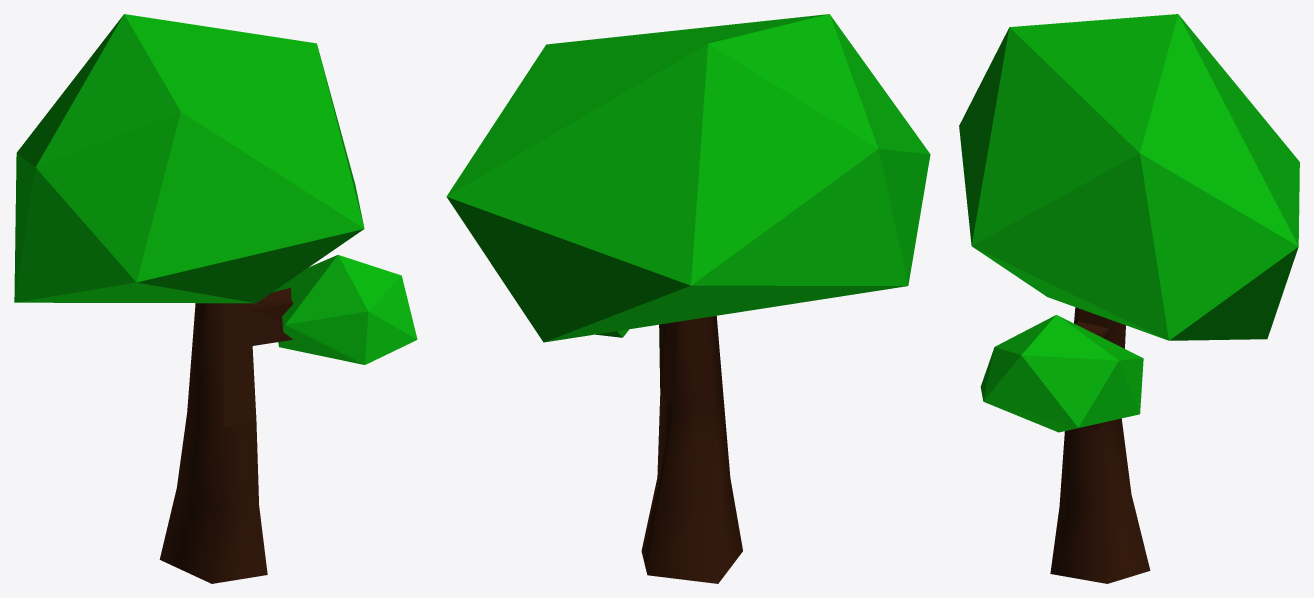
File: Tree 7.FBX
The picture shows the model from 3 angles, left to right: view 1: azimuth 30°, elevation 25°; view 2: azimuth 150°, elevation 25°; view 3: azimuth 270°, elevation 25°; orthographic projection. The views are drawn at different scales.
Visible parts, largest first — view 1: Tree round12, Treetrunk12, Tree round013; view 2: Tree round12, Treetrunk12; view 3: Tree round12, Tree round013, Treetrunk12.
Boxes of the visible parts, x1,y1,x2,y2 form: Tree round12: (14,14,364,303); Treetrunk12: (159,288,293,583); Tree round013: (273,255,417,364); Tree round12: (446,14,930,342); Treetrunk12: (641,316,742,583); Tree round12: (959,14,1299,340); Tree round013: (980,315,1143,432); Treetrunk12: (1050,307,1150,583).
Bounding box in the file's own units: 34.78 × 47.01 × 27.8.
